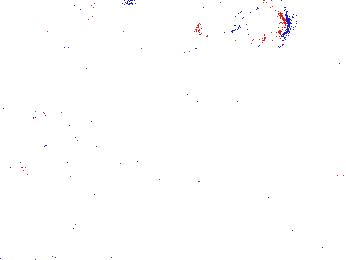moon jellyfish: (130, 28, 223, 131), (9, 110, 94, 178), (108, 1, 197, 62), (191, 1, 290, 48), (49, 11, 100, 85)
